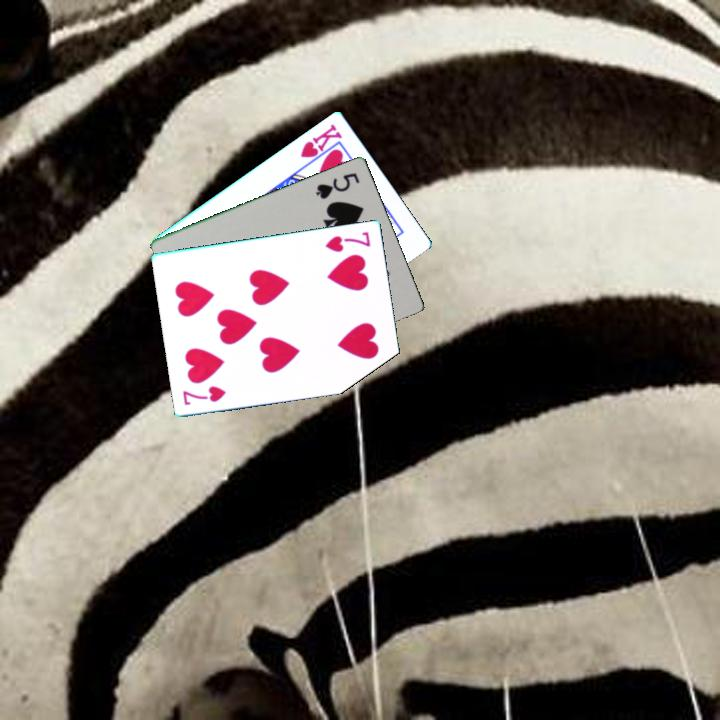5s: (312, 169, 363, 202)
7h: (322, 228, 373, 255), (179, 382, 229, 408)
Kh: (297, 120, 345, 168)
